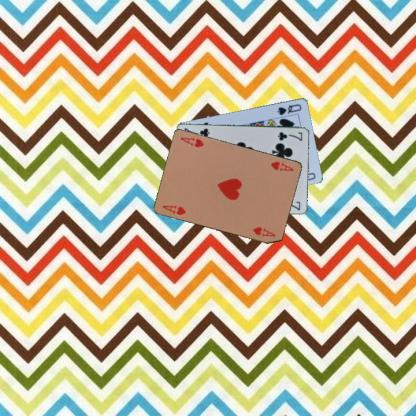7c: (276, 130, 303, 142)
Ah: (268, 158, 295, 173), (160, 202, 187, 217)
Qs: (275, 101, 303, 116)
